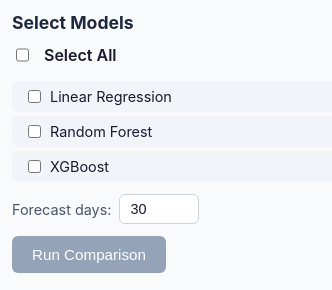
Test case: ModelSelector › select all toggles all models
The width and height of the screenshot is (332, 290).
Click the text "Select All".
click(66, 55)  # box [16,45,116,65]
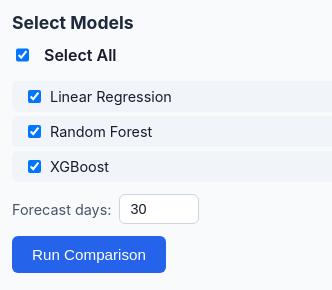
Now the checkbox labelled "Select All" is checked, box [16,48,29,62]
Now the checkbox labelled "Linear Regression" is checked, box [28,90,41,103]
Now the checkbox labelled "Random Forest" is checked, box [28,125,41,138]
